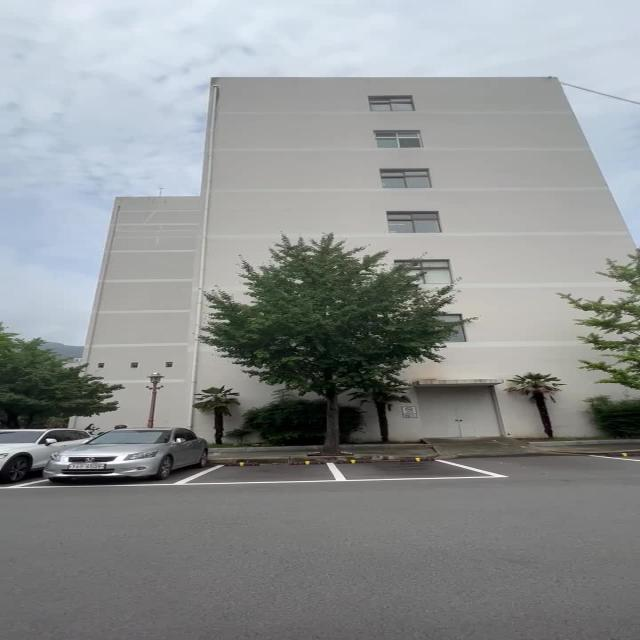building: (201, 70, 620, 254)
